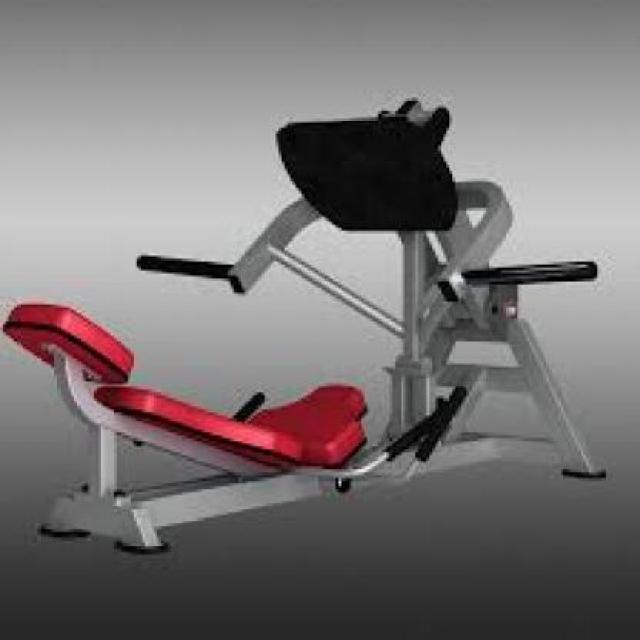leg press: (0, 77, 634, 569)
